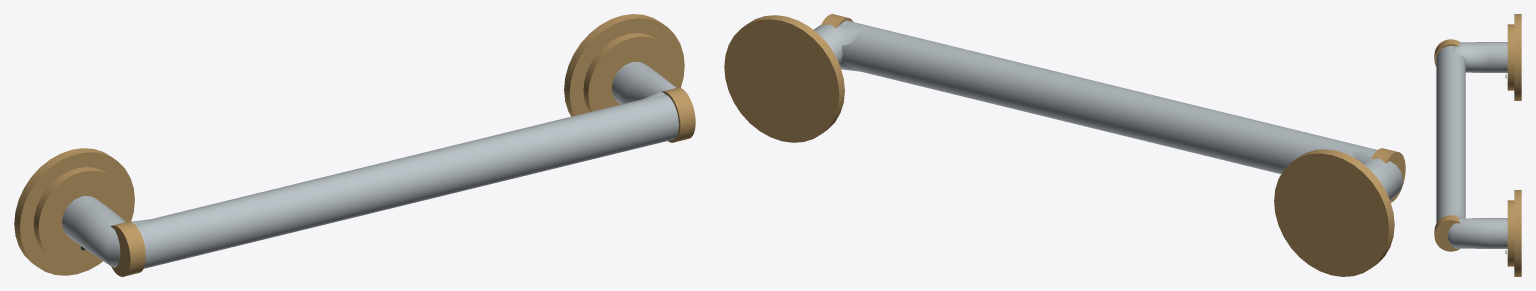
The model's file is bath-grab-bar.glb.
3 views of the same model, side by side, from view 1: azimuth 30°, elevation 25°; view 2: azimuth 150°, elevation 25°; view 3: azimuth 270°, elevation 25° (orthographic). The views are drawn at different scales.
Visible parts, largest first — view 1: bath-grab-bar authored assembly; view 2: bath-grab-bar authored assembly; view 3: bath-grab-bar authored assembly.
Part boxes in pixels (left/top/right/bottom): bath-grab-bar authored assembly: left=14, top=14, right=695, bottom=276; bath-grab-bar authored assembly: left=724, top=14, right=1405, bottom=276; bath-grab-bar authored assembly: left=1434, top=14, right=1521, bottom=276.
Size of the model in its own units: 0.52 by 0.09 by 0.09.
